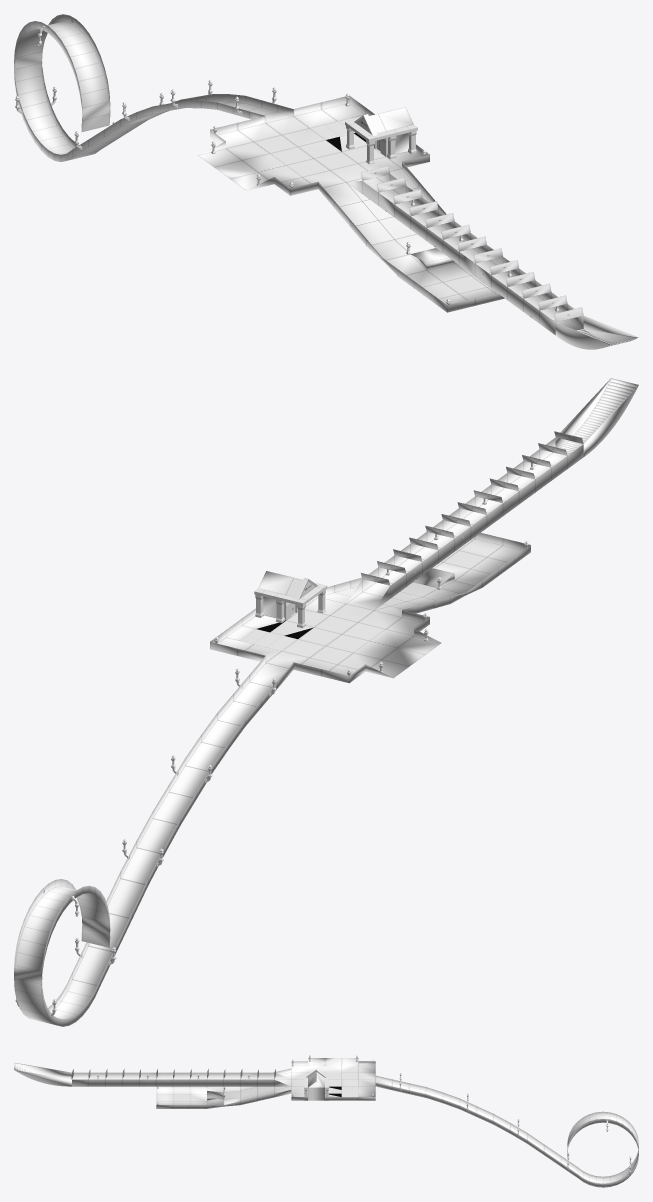
Rendered from tuning_testlevel.obj.
3 views of the same model, one above another, from view 1: azimuth 30°, elevation 25°; view 2: azimuth 150°, elevation 25°; view 3: azimuth 270°, elevation 25° (orthographic). The views are drawn at different scales.
Parts seen in each view (by area): view 1: Plane.001; view 2: Plane.001; view 3: Plane.001.
Boxes of the visible parts, x1,y1,x2,y2 form: Plane.001: (14, 14, 638, 349); Plane.001: (14, 378, 638, 1026); Plane.001: (14, 1055, 638, 1187).
Bounding box in the file's own units: 120 × 159 × 741.
Materials: 19 (19 with a texture image).
